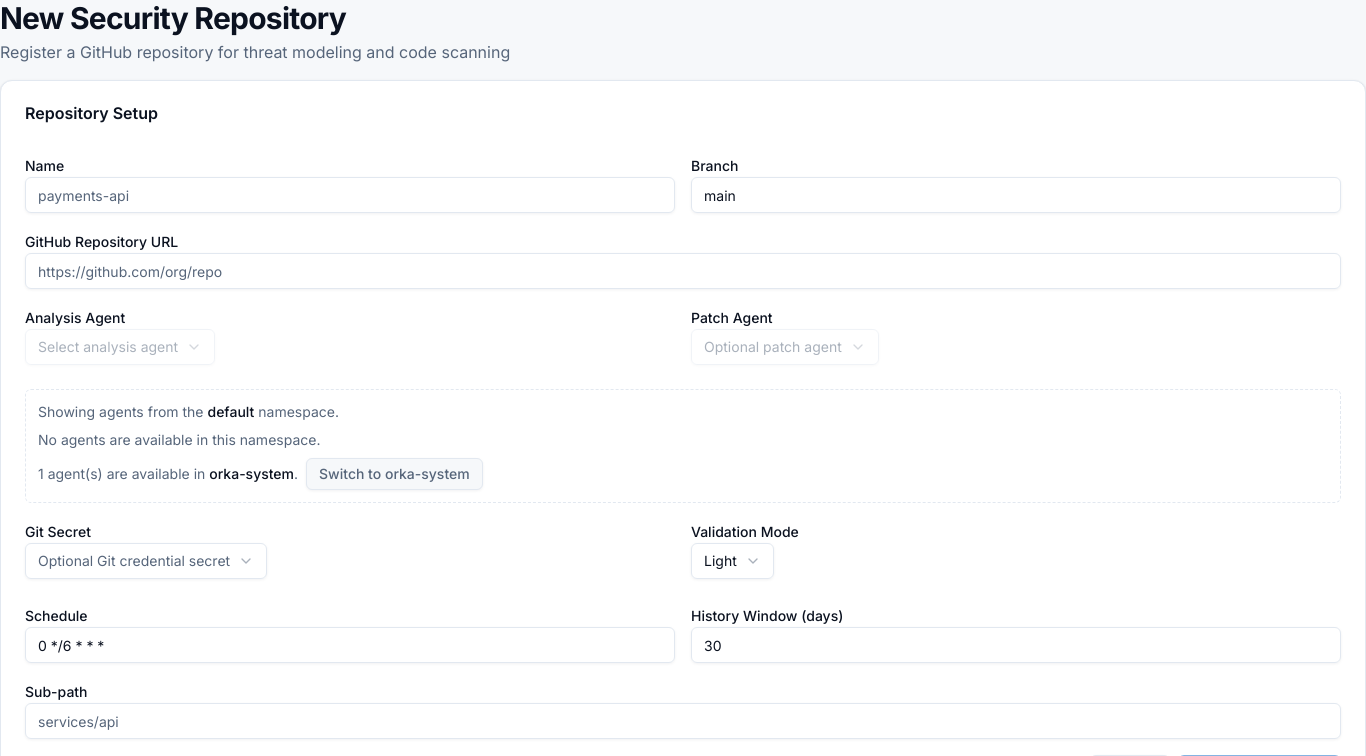
Test case: RepositoryCreateForm › shows a namespace hint and lets the user switch to orka-system when agents only exist there
Expected: the text "Showing agents from the default namespace." is shown, [38,403,339,420]
Expected: the text "No agents are available in this namespace." is shown, [38,431,320,448]
Click the button "Switch to orka-system": point(394, 474) [306,458,483,490]
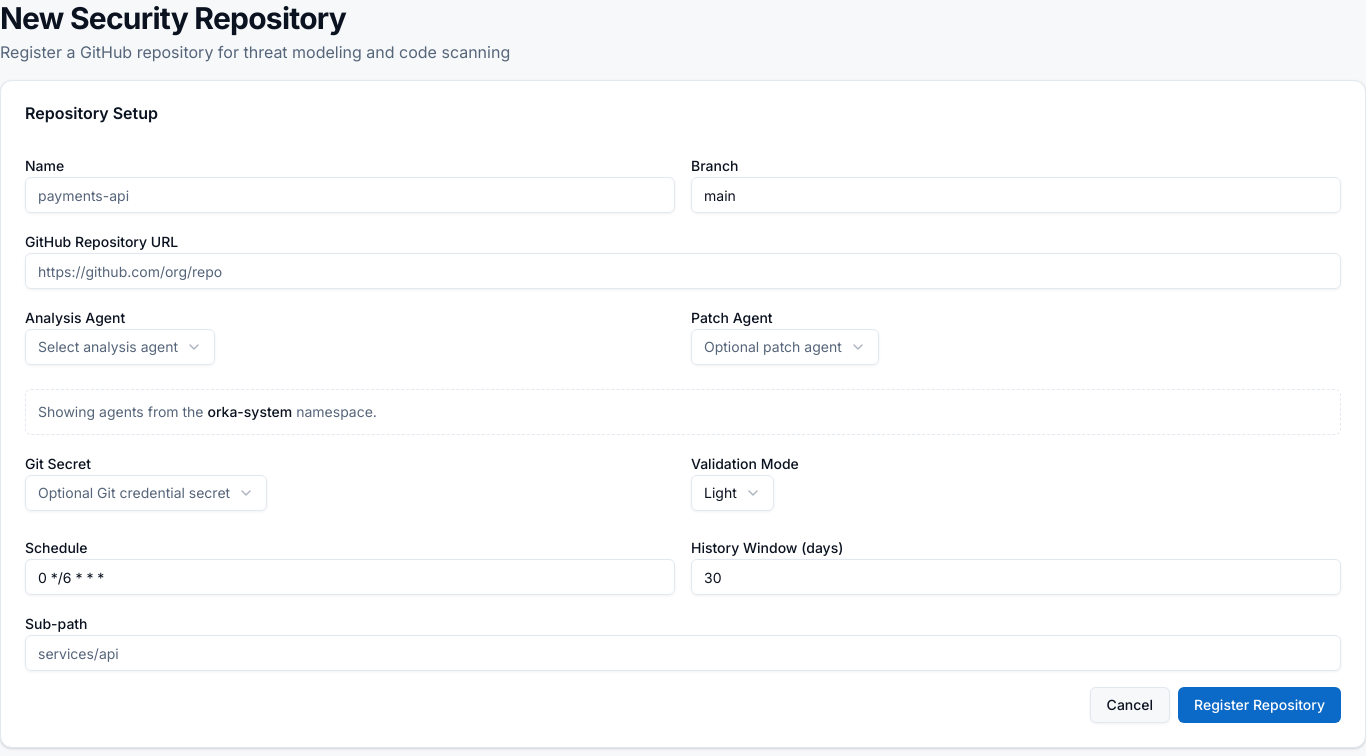
Expected: the text "orka-system" is shown, [208,403,292,420]
